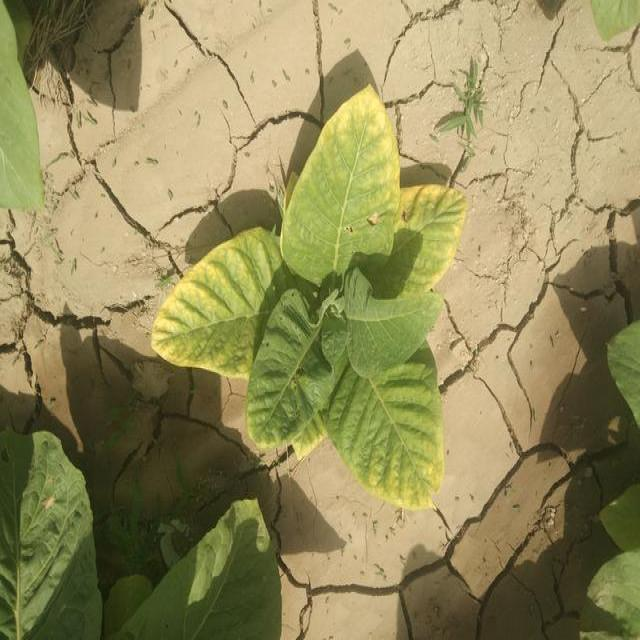crop: (168, 122, 490, 500), (3, 432, 100, 627), (176, 499, 276, 640)
